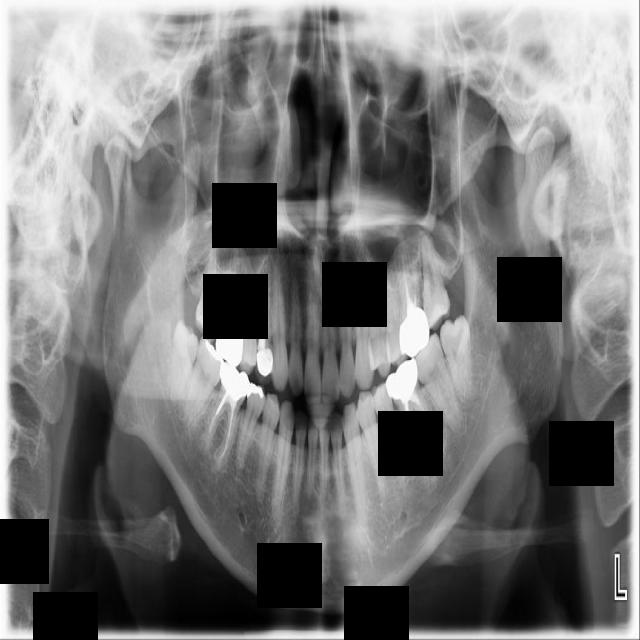52: (377, 355, 433, 410), (188, 332, 232, 390), (217, 362, 253, 407), (399, 304, 429, 358), (214, 316, 245, 368), (253, 339, 274, 386), (246, 383, 266, 414)
73: (394, 386, 449, 474), (198, 385, 246, 469), (397, 241, 426, 326), (221, 244, 248, 335), (256, 280, 277, 345), (600, 558, 612, 570)
BioHorizons Implant: (420, 231, 451, 331)
Biomet 3i Implant: (437, 314, 480, 406)
Blue Sky Bio Implant: (404, 332, 467, 440)
Caries: (195, 244, 219, 343)
Implant: (178, 336, 231, 435)
Keystone Dental Implant: (167, 318, 201, 407)
